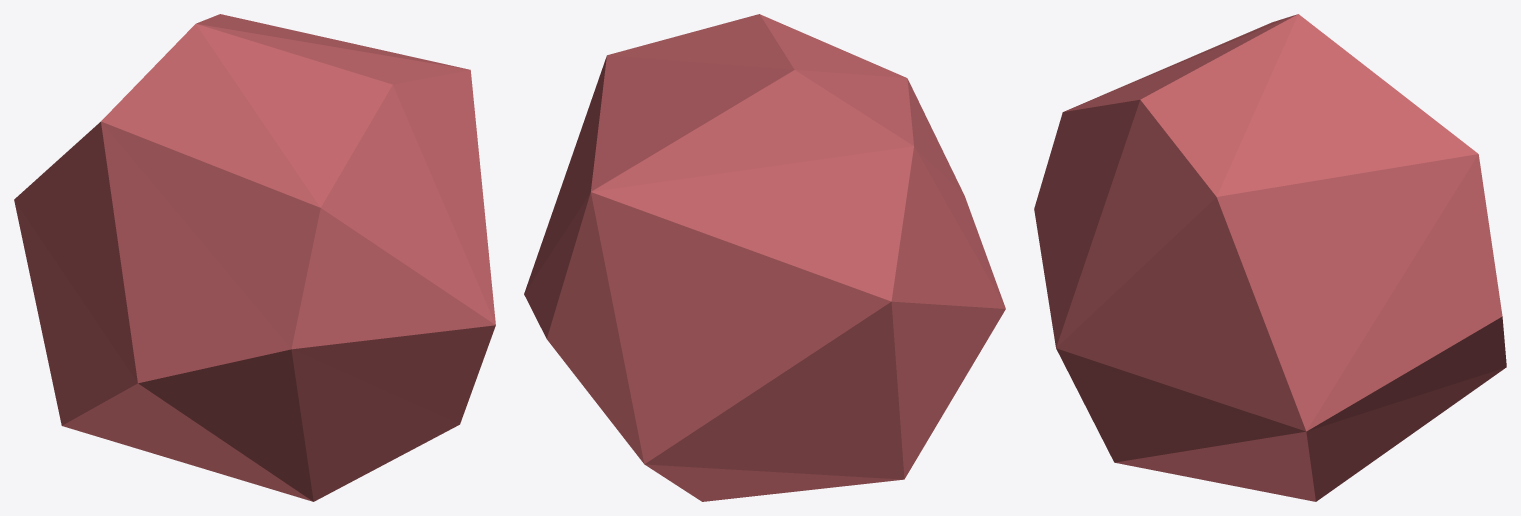
The model's file is SM_Crystal4.fbx.
3 views of the same model, side by side, from view 1: azimuth 30°, elevation 25°; view 2: azimuth 150°, elevation 25°; view 3: azimuth 270°, elevation 25° (orthographic). The views are drawn at different scales.
Parts seen in each view (by area): view 1: SM_Crystal4; view 2: SM_Crystal4; view 3: SM_Crystal4.
Part boxes in pixels (<box>): SM_Crystal4: <box>14,14,495,501</box>; SM_Crystal4: <box>524,14,1005,501</box>; SM_Crystal4: <box>1034,14,1506,501</box>.
Bounding box in the file's own units: 47.5 × 50.1 × 48.01.
